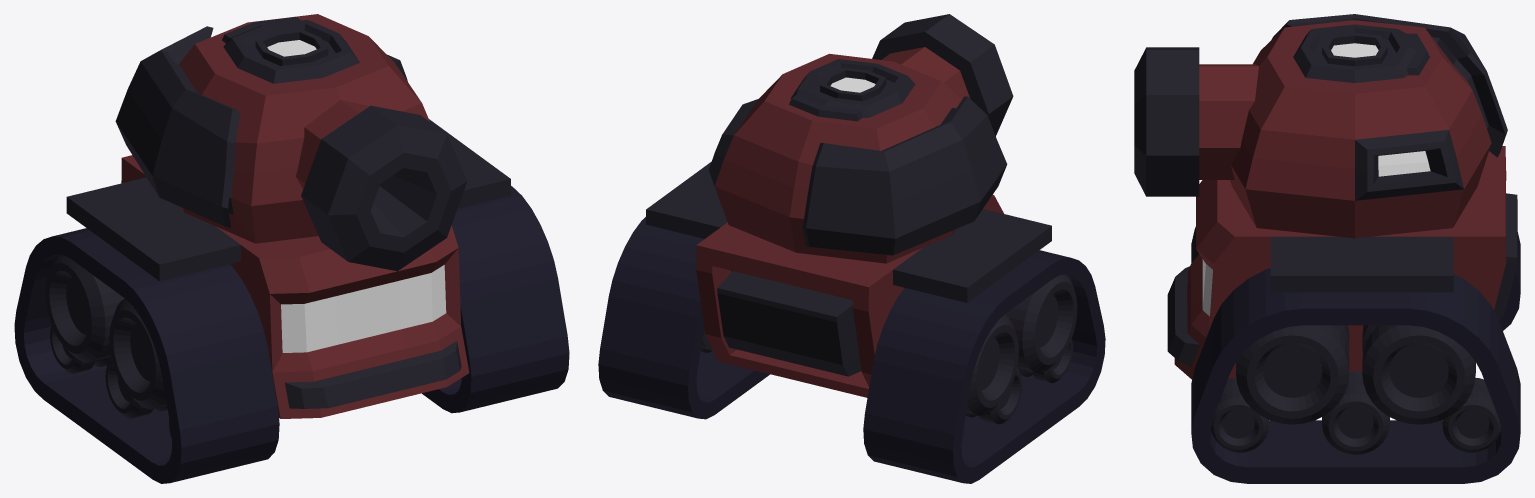
The model's file is BasicEnemie.fbx.
The picture shows the model from 3 angles, left to right: view 1: azimuth 30°, elevation 25°; view 2: azimuth 150°, elevation 25°; view 3: azimuth 270°, elevation 25°; orthographic projection. The views are drawn at different scales.
Parts seen in each view (by area): view 1: Turret.001, Tracks.004, Cube.004, Cylinder.016, Tracks.003, Cube.005, Cylinder.018, Cylinder.017, Cylinder.021, Cylinder.019; view 2: Cube.004, Turret.001, Tracks.004, Tracks.003, Cylinder.016, Cube.005, Cylinder.017, Cylinder.018, Cylinder.021, Cylinder.020; view 3: Cube.004, Tracks.003, Turret.001, Cylinder.016, Cylinder.011, Cylinder.012, Cube.005, Cylinder.015, Cylinder.013, Cylinder.014, Tracks.004.
Part boxes in pixels (left/top/right/bottom): Turret.001: left=66, top=119, right=510, bottom=418; Tracks.004: left=14, top=228, right=279, bottom=483; Cube.004: left=115, top=14, right=429, bottom=243; Cylinder.016: left=296, top=100, right=467, bottom=271; Tracks.003: left=422, top=186, right=569, bottom=413; Cube.005: left=222, top=17, right=359, bottom=83; Cylinder.018: left=45, top=255, right=124, bottom=362; Cylinder.017: left=109, top=298, right=166, bottom=409; Cylinder.021: left=105, top=356, right=167, bottom=418; Cylinder.019: left=50, top=325, right=109, bottom=373; Cube.004: left=708, top=53, right=1007, bottom=263; Turret.001: left=646, top=162, right=1051, bottom=397; Tracks.004: left=863, top=250, right=1105, bottom=483; Tracks.003: left=598, top=217, right=769, bottom=419; Cylinder.016: left=872, top=14, right=1013, bottom=136; Cube.005: left=789, top=59, right=915, bottom=121; Cylinder.017: left=1005, top=274, right=1077, bottom=372; Cylinder.018: left=966, top=314, right=1018, bottom=415; Cylinder.021: left=965, top=367, right=1022, bottom=424; Cylinder.020: left=1018, top=339, right=1073, bottom=383; Cube.004: left=1230, top=14, right=1507, bottom=238; Tracks.003: left=1191, top=268, right=1520, bottom=483; Turret.001: left=1167, top=146, right=1517, bottom=379; Cylinder.016: left=1134, top=47, right=1258, bottom=196; Cylinder.011: left=1362, top=325, right=1475, bottom=424; Cylinder.012: left=1236, top=325, right=1349, bottom=424; Cube.005: left=1293, top=24, right=1429, bottom=82; Cylinder.015: left=1322, top=371, right=1389, bottom=454; Cylinder.013: left=1442, top=377, right=1501, bottom=452; Cylinder.014: left=1210, top=378, right=1269, bottom=452; Tracks.004: left=1191, top=226, right=1520, bottom=330.
Bounding box in the file's own units: 4.11 × 3.53 × 3.6.
